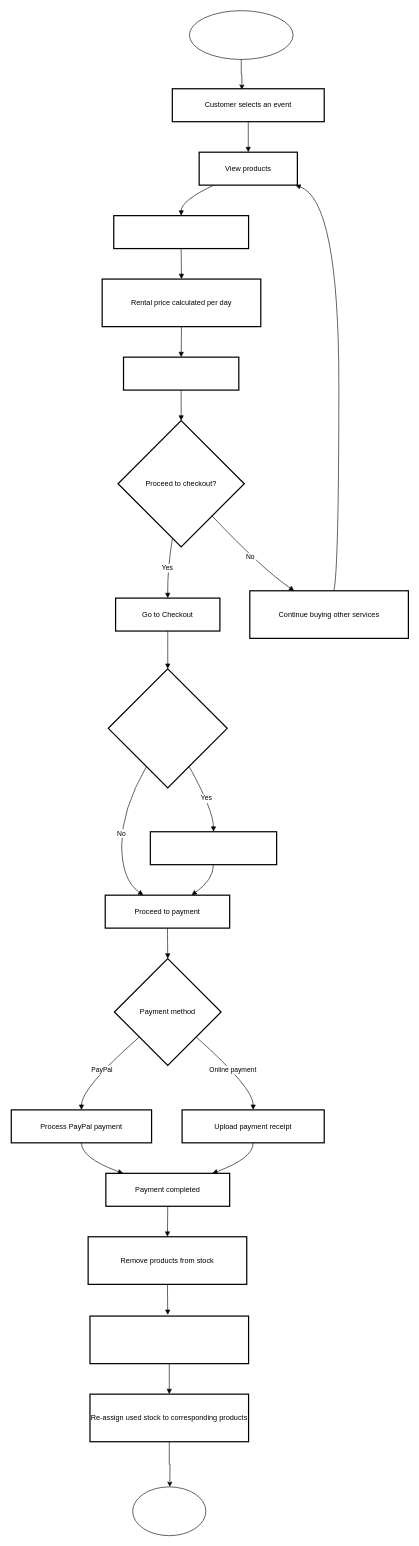
Image size: 419x1546. Some labels were removed from this diagram. Here are the shapes that lost their labels. From the top down, the centre of each, then its label:
At point 241,34: "Start".
At point 181,232: "Select dates for rental".
At point 181,373: "Add rental to cart".
At point 167,728: "Ask for installation?".
At point 213,848: "Add installation cost".
At point 169,1339: "Staff changes order status to completed Event end date".
At point 169,1511: "End".
